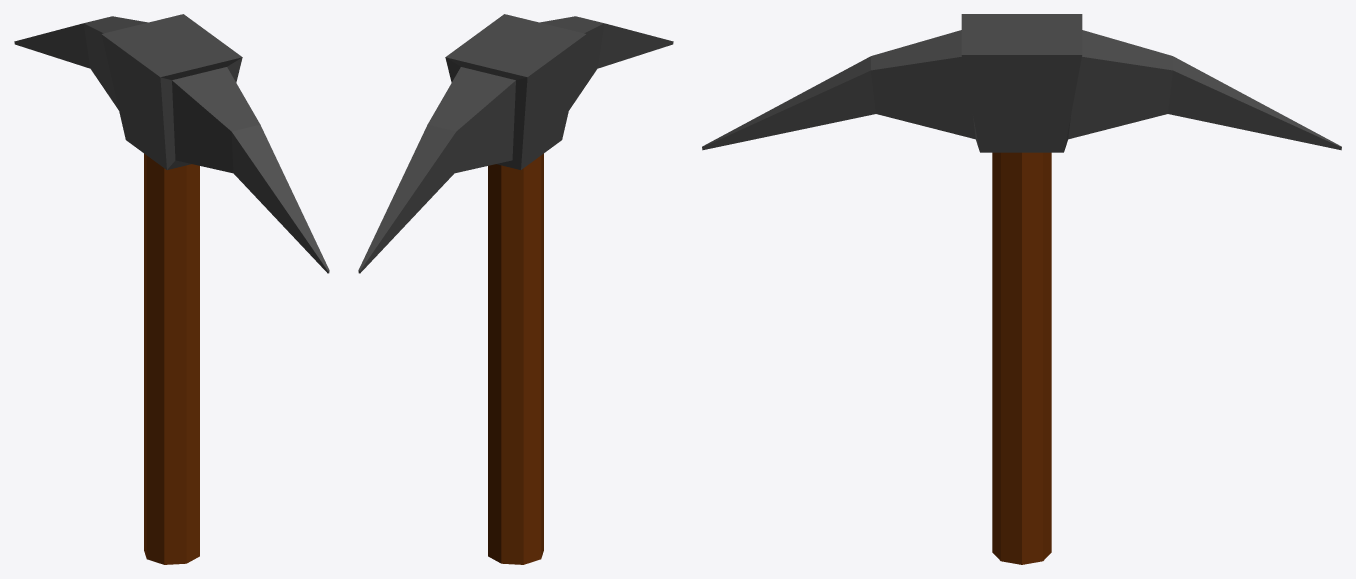
File: Pico.glb
3 views of the same model, side by side, from view 1: azimuth 30°, elevation 25°; view 2: azimuth 150°, elevation 25°; view 3: azimuth 270°, elevation 25° (orthographic). The views are drawn at different scales.
Parts seen in each view (by area): view 1: Cube.001, Cube; view 2: Cube.001, Cube; view 3: Cube.001, Cube.
Part boxes in pixels (x1,y1,x2,y2): Cube.001: (14,14,329,273); Cube: (144,153,199,564); Cube.001: (358,14,673,273); Cube: (488,153,543,564); Cube.001: (702,14,1341,152); Cube: (992,152,1051,564).
Bounding box in the file's own units: 0.834 × 4.92 × 5.51.
